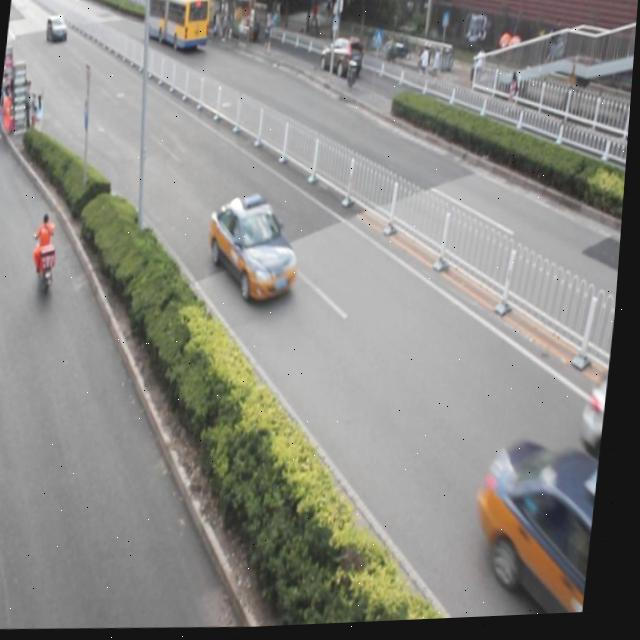car: (477, 437, 608, 622), (205, 194, 306, 310), (316, 36, 364, 84), (225, 11, 260, 48)
van: (141, 0, 210, 55)
